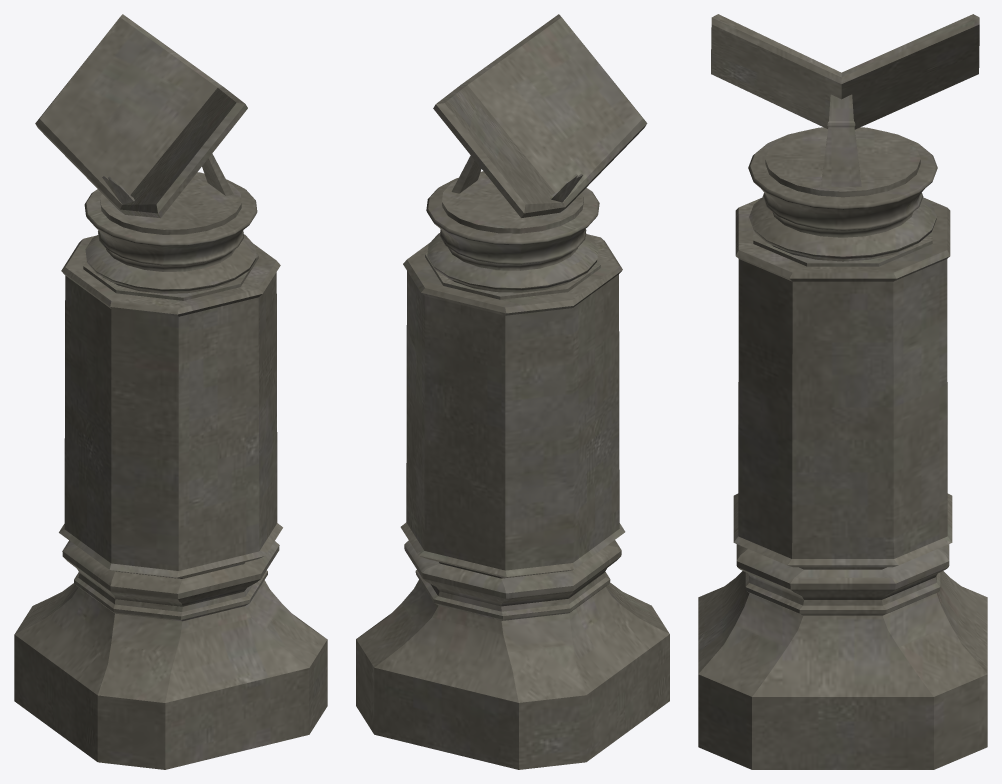
The model's file is stand.gltf.
3 renders of one model, left to right at view 1: azimuth 30°, elevation 25°; view 2: azimuth 150°, elevation 25°; view 3: azimuth 270°, elevation 25°, orthographic. The views are drawn at different scales.
Visible parts, largest first — view 1: pCube5; view 2: pCube5; view 3: pCube5.
Boxes of the visible parts, <box> form: pCube5: <box>14,14,327,769</box>; pCube5: <box>356,14,669,769</box>; pCube5: <box>698,14,987,769</box>.
Bounding box in the file's own units: 2.02 × 5.38 × 2.02.
Materials: 1 (1 with a texture image).
